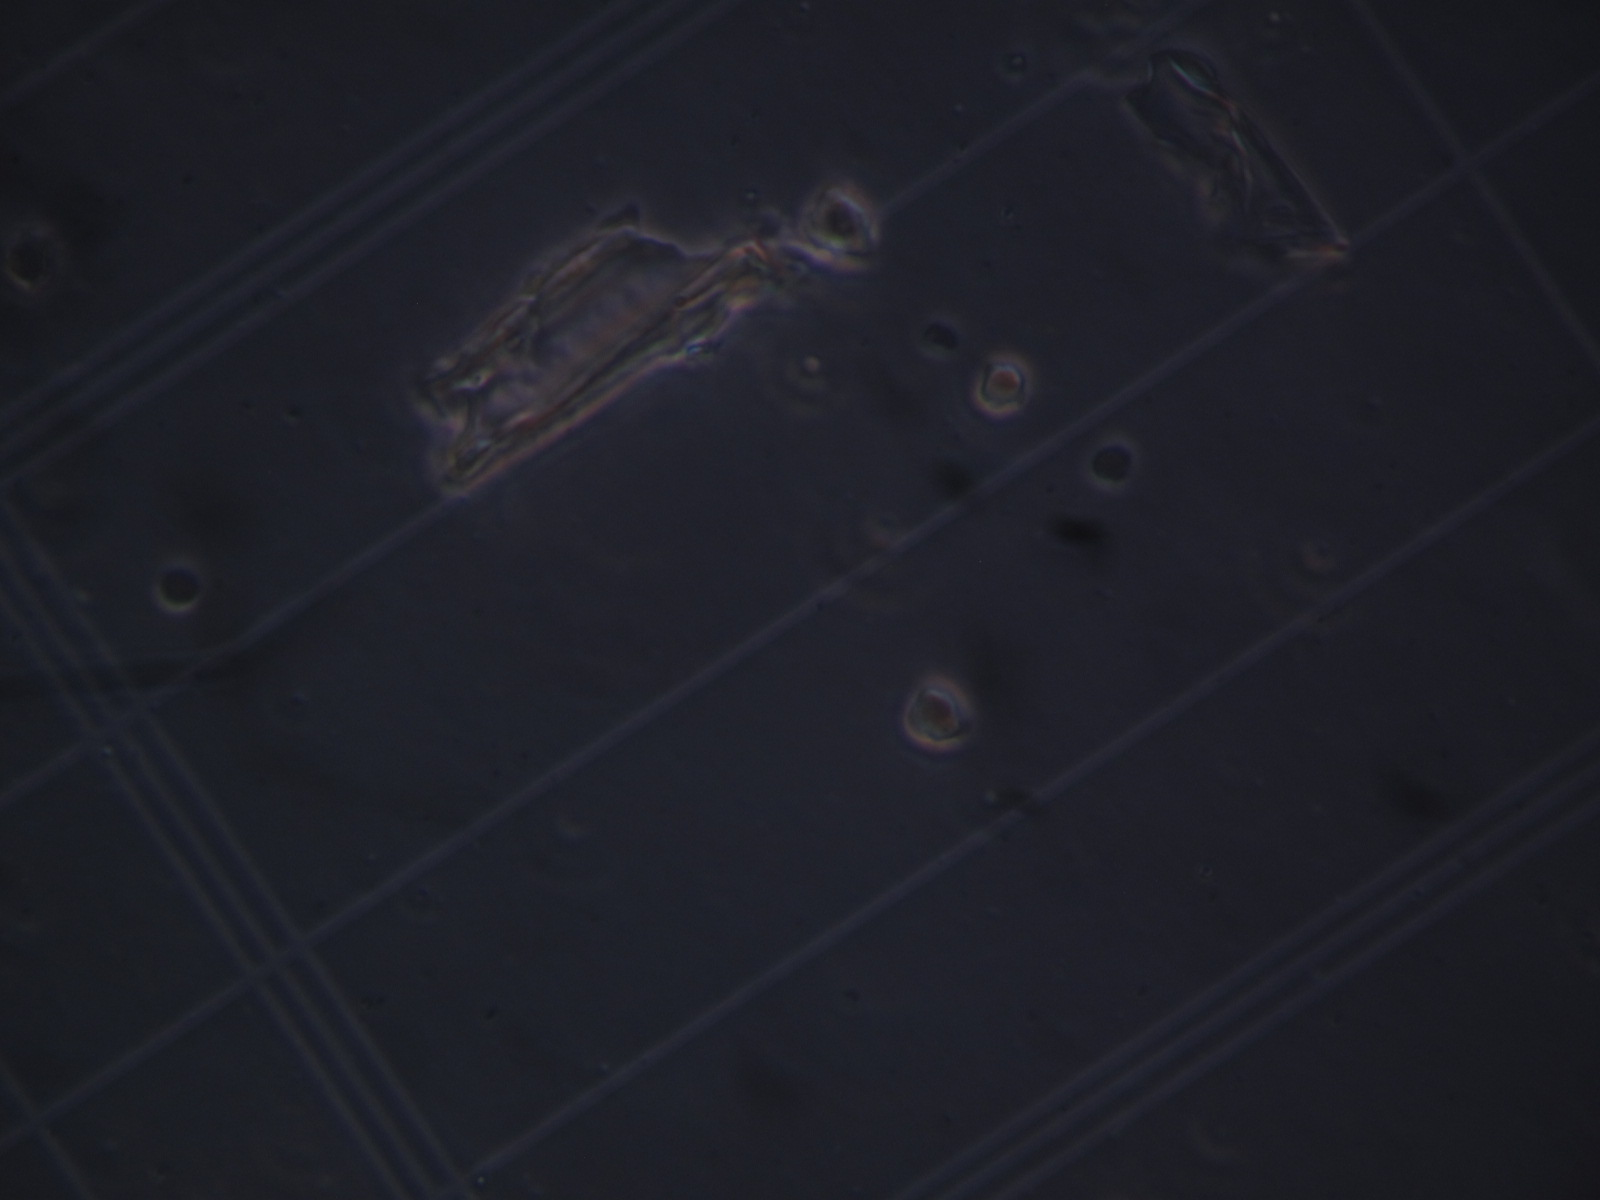hemo: (900, 672, 975, 751), (800, 182, 879, 257), (976, 350, 1033, 416), (152, 555, 207, 618)
